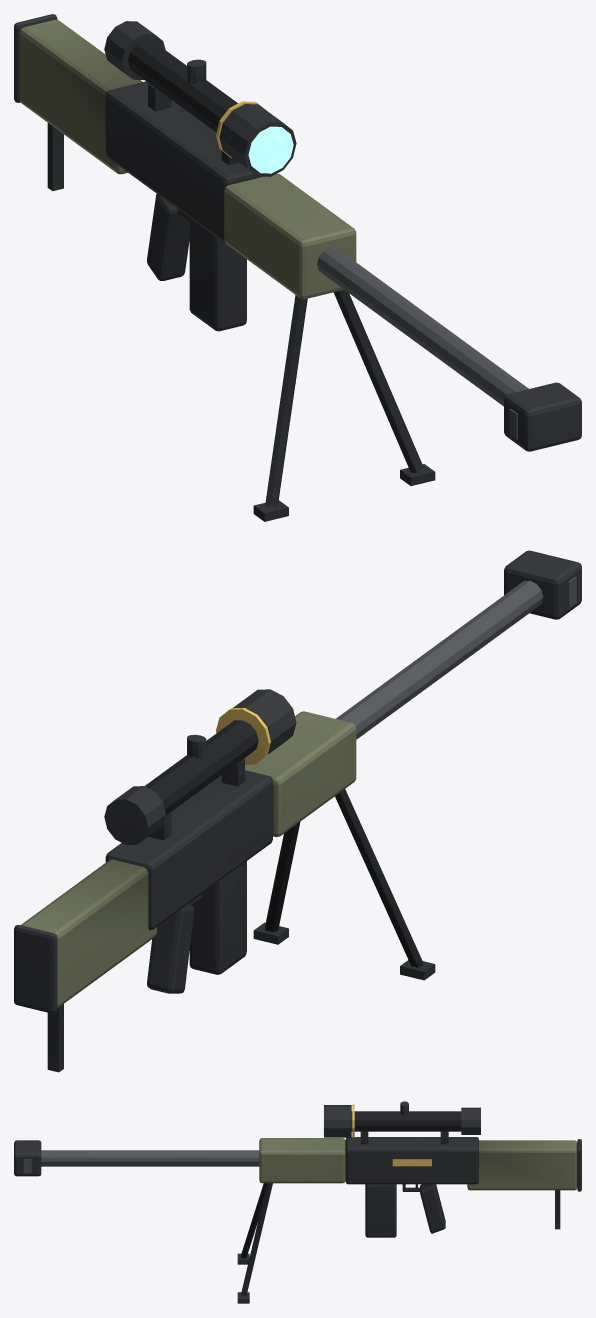
File: javelin_amr.glb
3 renders of one model, top to bottom at view 1: azimuth 30°, elevation 25°; view 2: azimuth 150°, elevation 25°; view 3: azimuth 270°, elevation 25°, orthographic. The views are drawn at different scales.
Visible parts, largest first — view 1: javelin_amr, mag; view 2: javelin_amr, mag; view 3: javelin_amr, mag.
Part boxes in pixels (x1,y1,x2,y2): javelin_amr: (14, 14, 581, 521); mag: (189, 218, 246, 331); javelin_amr: (14, 550, 581, 1072); mag: (189, 861, 246, 974); javelin_amr: (14, 1101, 581, 1303); mag: (365, 1184, 396, 1237).
Bounding box in the file's own units: 0.273 × 0.4979 × 1.45.
